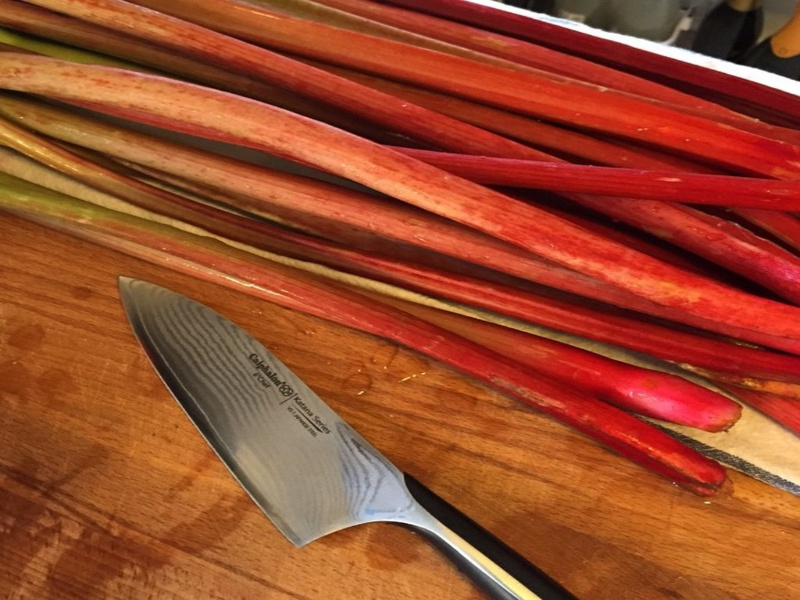knife: (112, 272, 580, 600)
